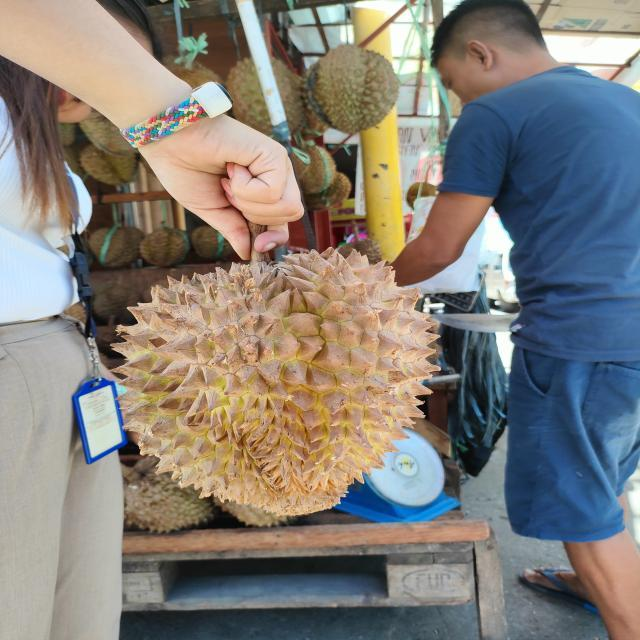mature: (111, 248, 441, 516)
